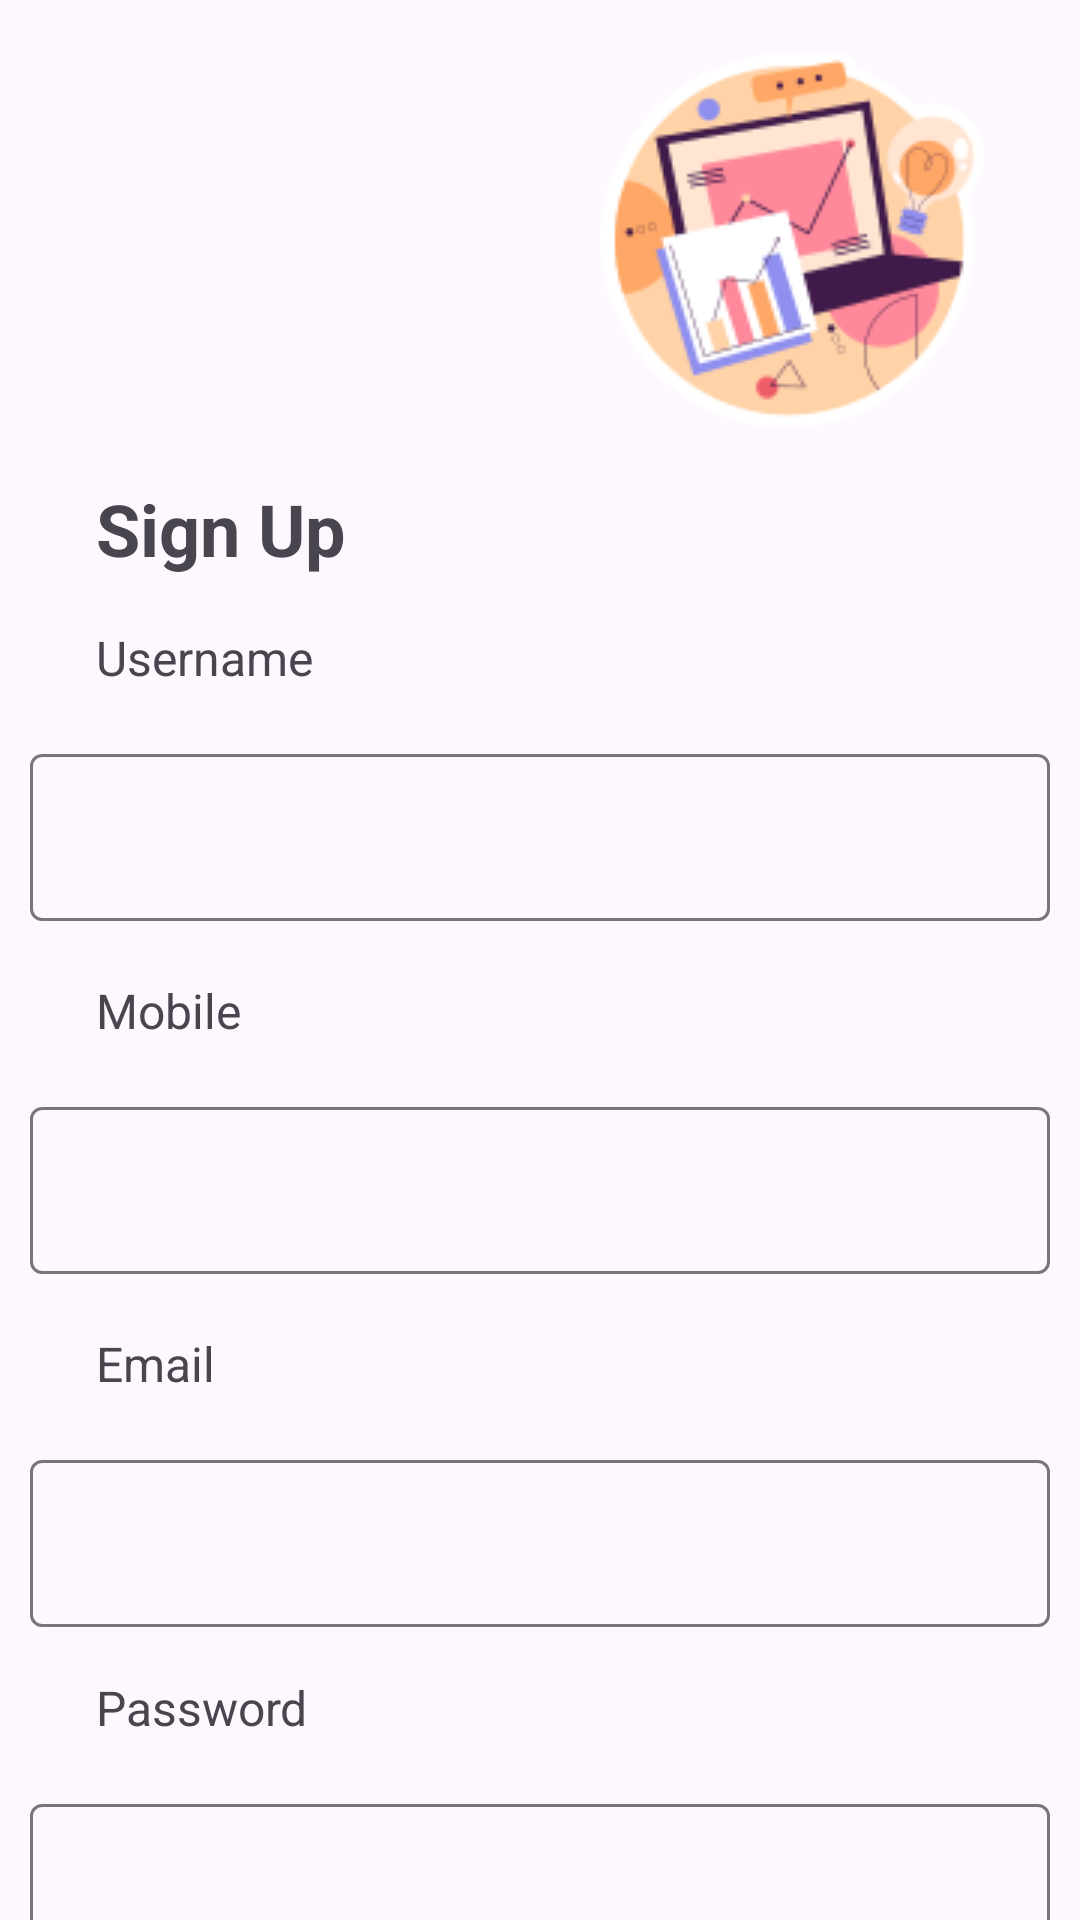

Icon click points for this 1080 x 1920 phone screenshot, format (x,y):
data: (793,238)
